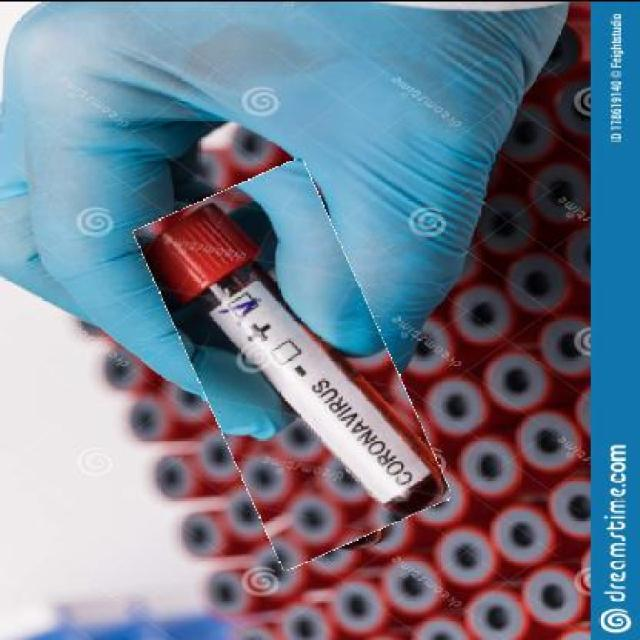Experimental-tube: (167, 165, 419, 558)
